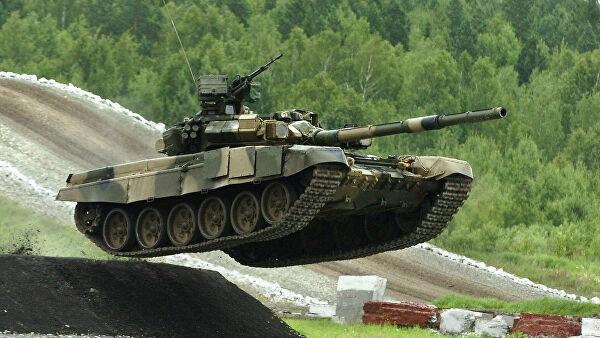tank: (67, 36, 515, 295)
